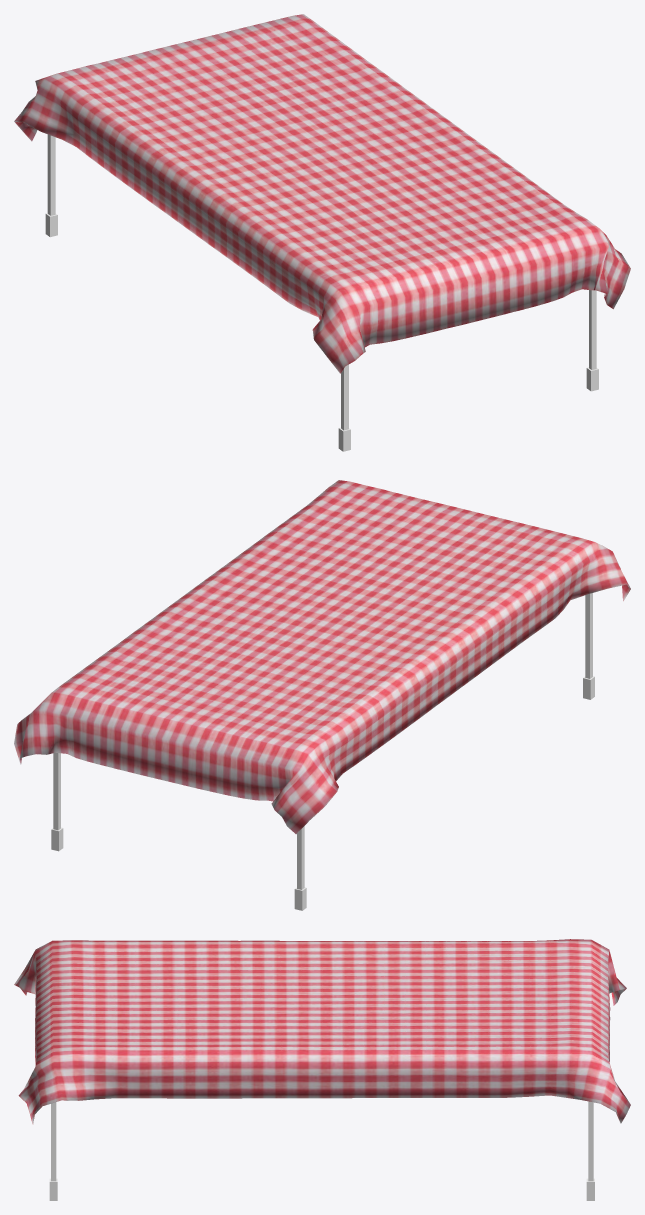
File: table2.gltf
3 views of the same model, one above another, from view 1: azimuth 30°, elevation 25°; view 2: azimuth 150°, elevation 25°; view 3: azimuth 270°, elevation 25° (orthographic). The views are drawn at different scales.
Parts seen in each view (by area): view 1: model_2, model_1; view 2: model_2, model_1; view 3: model_2, model_1.
Boxes of the visible parts, x1,y1,x2,y2 form: model_2: [14, 14, 630, 373]; model_1: [45, 134, 598, 451]; model_2: [14, 480, 630, 834]; model_1: [51, 593, 594, 910]; model_2: [14, 939, 630, 1124]; model_1: [49, 1101, 594, 1200].
Bounding box in the file's own units: 1.97 × 0.9557 × 3.6.
Materials: 2 (1 with a texture image).
